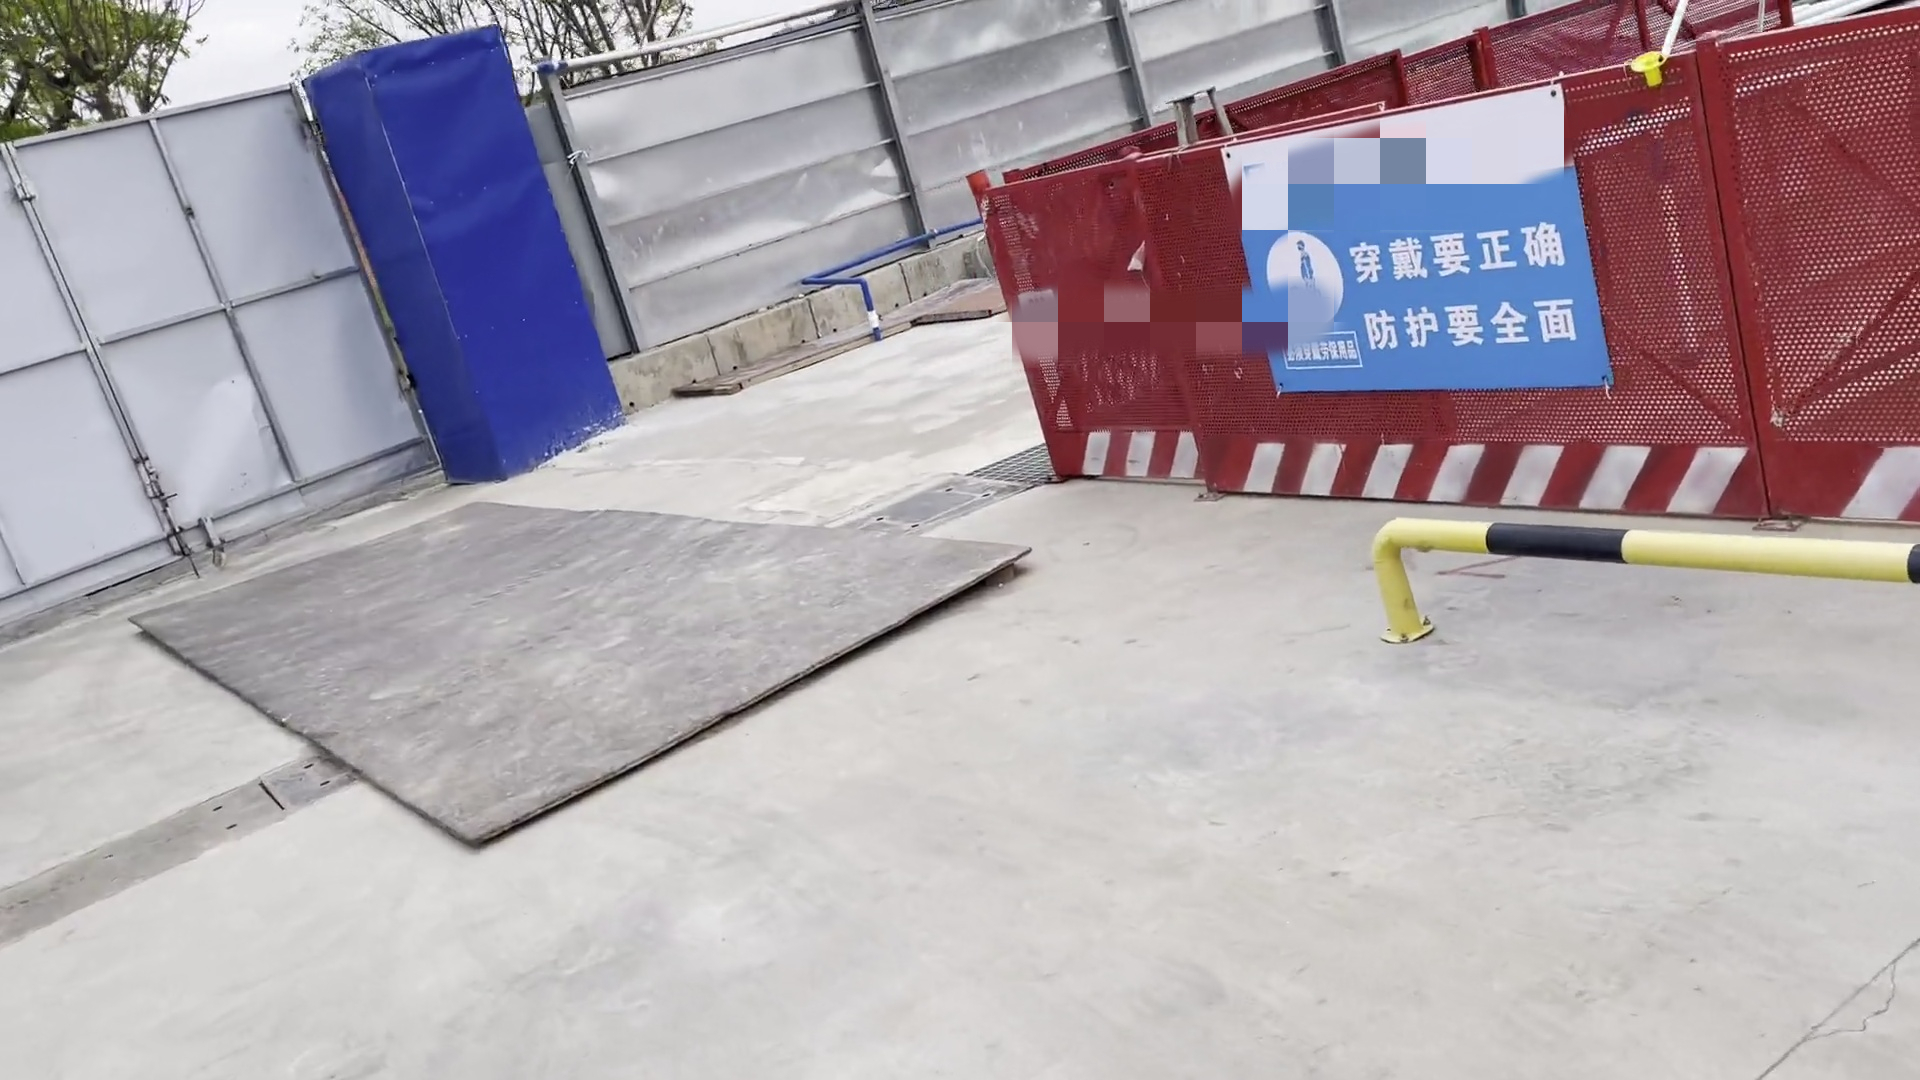fence: (963, 3, 1920, 533)
slogan: (1217, 135, 1631, 414)
